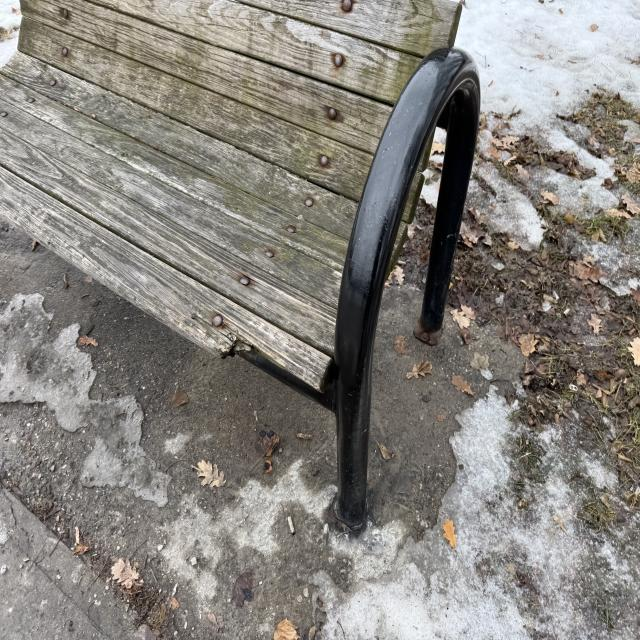Bench: (3, 5, 474, 492)
